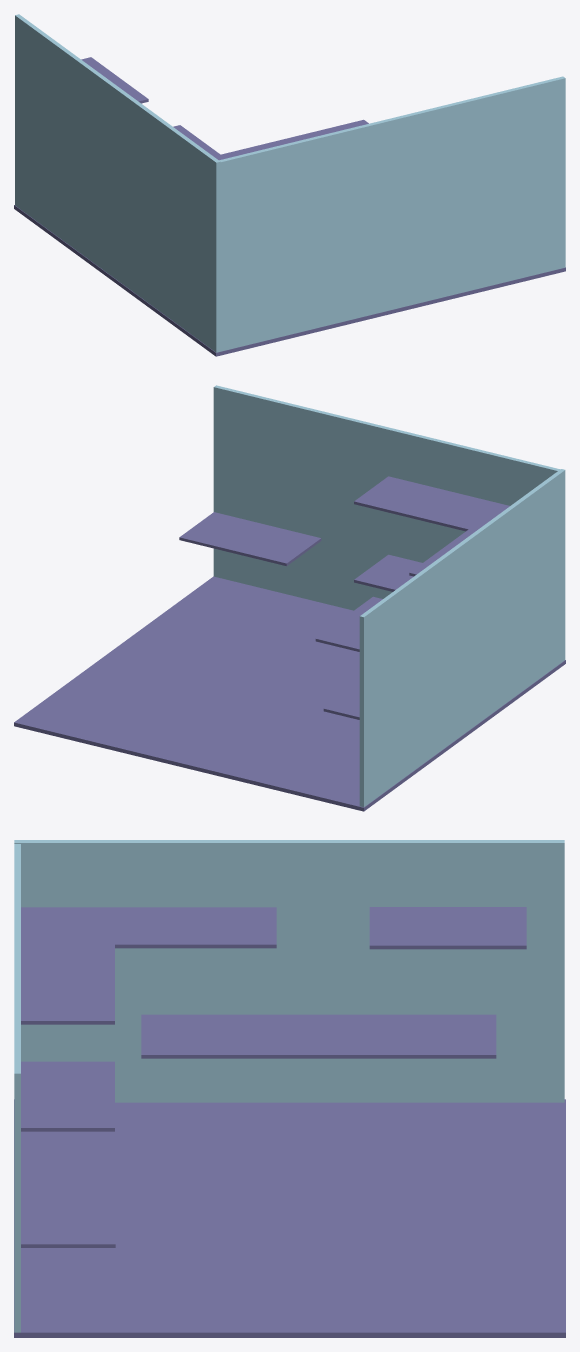
The model's file is Level_3.fbx.
3 views of the same model, one above another, from view 1: azimuth 30°, elevation 25°; view 2: azimuth 150°, elevation 25°; view 3: azimuth 270°, elevation 25° (orthographic). The views are drawn at different scales.
Parts seen in each view (by area): view 1: pasted__pCube3; view 2: pasted__pCube3; view 3: pasted__pCube3.
Boxes of the visible parts, left/top/right/bottom form: pasted__pCube3: left=14, top=14, right=565, bottom=356; pasted__pCube3: left=14, top=385, right=565, bottom=811; pasted__pCube3: left=14, top=840, right=565, bottom=1337.
Bounding box in the file's own units: 56.03 × 29.66 × 56.03.
